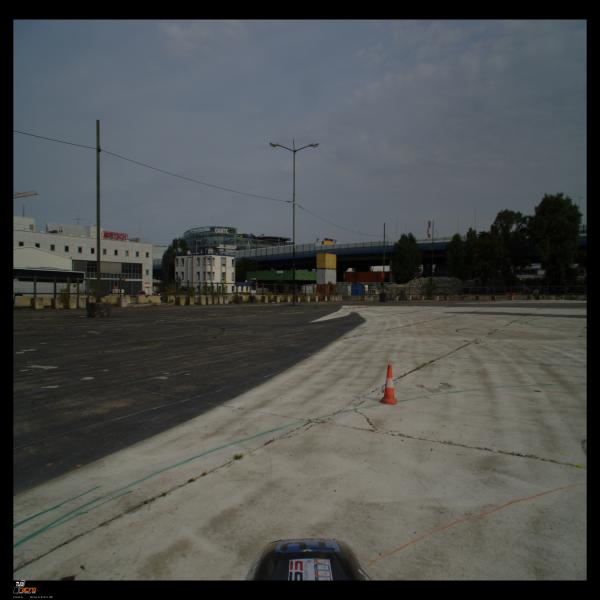orange_cone: (379, 365, 397, 405)
